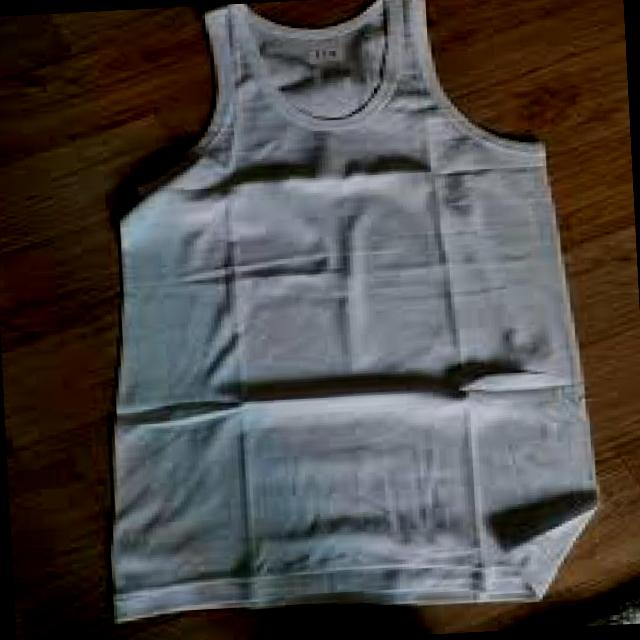no_vest: (79, 0, 602, 625)
